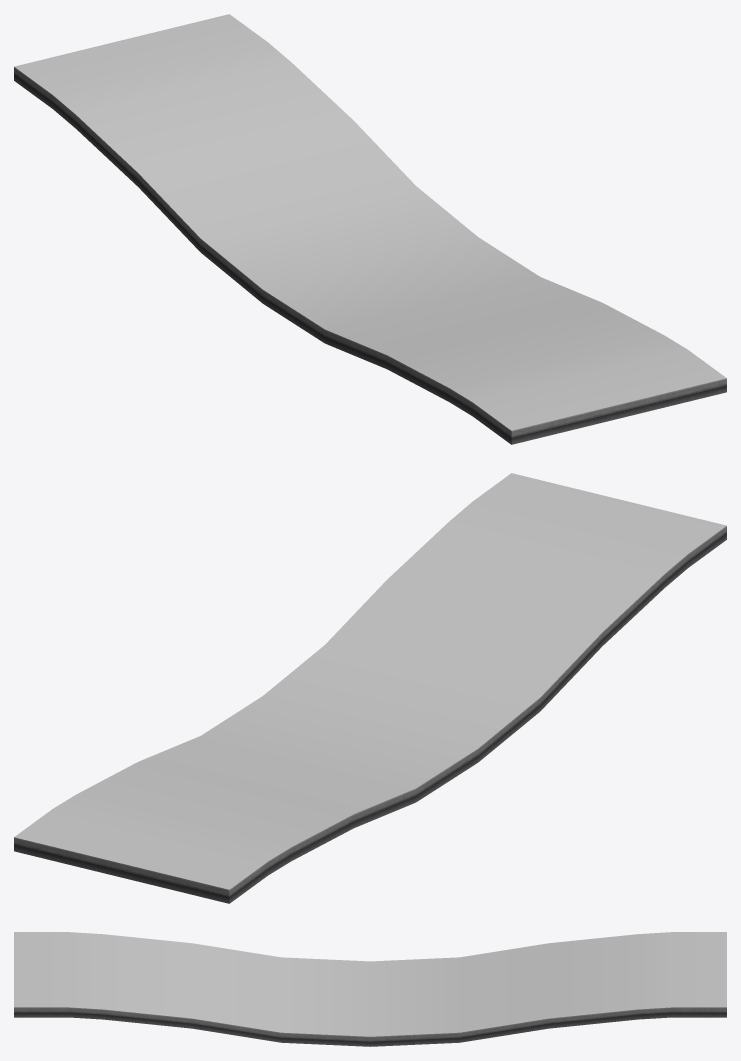
Rendered from StrDip02.fbx.
3 views of the same model, one above another, from view 1: azimuth 30°, elevation 25°; view 2: azimuth 150°, elevation 25°; view 3: azimuth 270°, elevation 25° (orthographic). The views are drawn at different scales.
Visible parts, largest first — view 1: Empty_Mesh; view 2: Empty_Mesh; view 3: Empty_Mesh.
Part boxes in pixels (x1,y1,x2,y2): Empty_Mesh: (14,14,726,444); Empty_Mesh: (14,473,726,903); Empty_Mesh: (14,932,726,1046).
Size of the model in its own units: 1600 by 390 by 6400.
